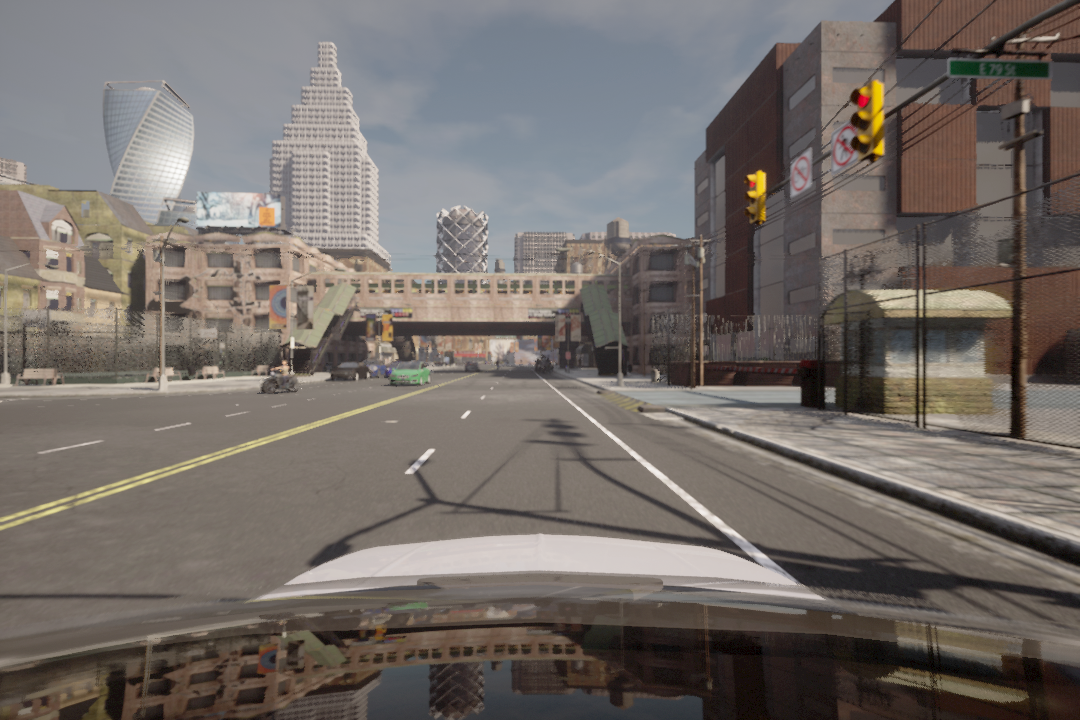TrafficLight: (851, 81, 889, 160), (742, 169, 766, 228)
TrafficSign: (828, 127, 861, 167), (786, 151, 813, 194)
